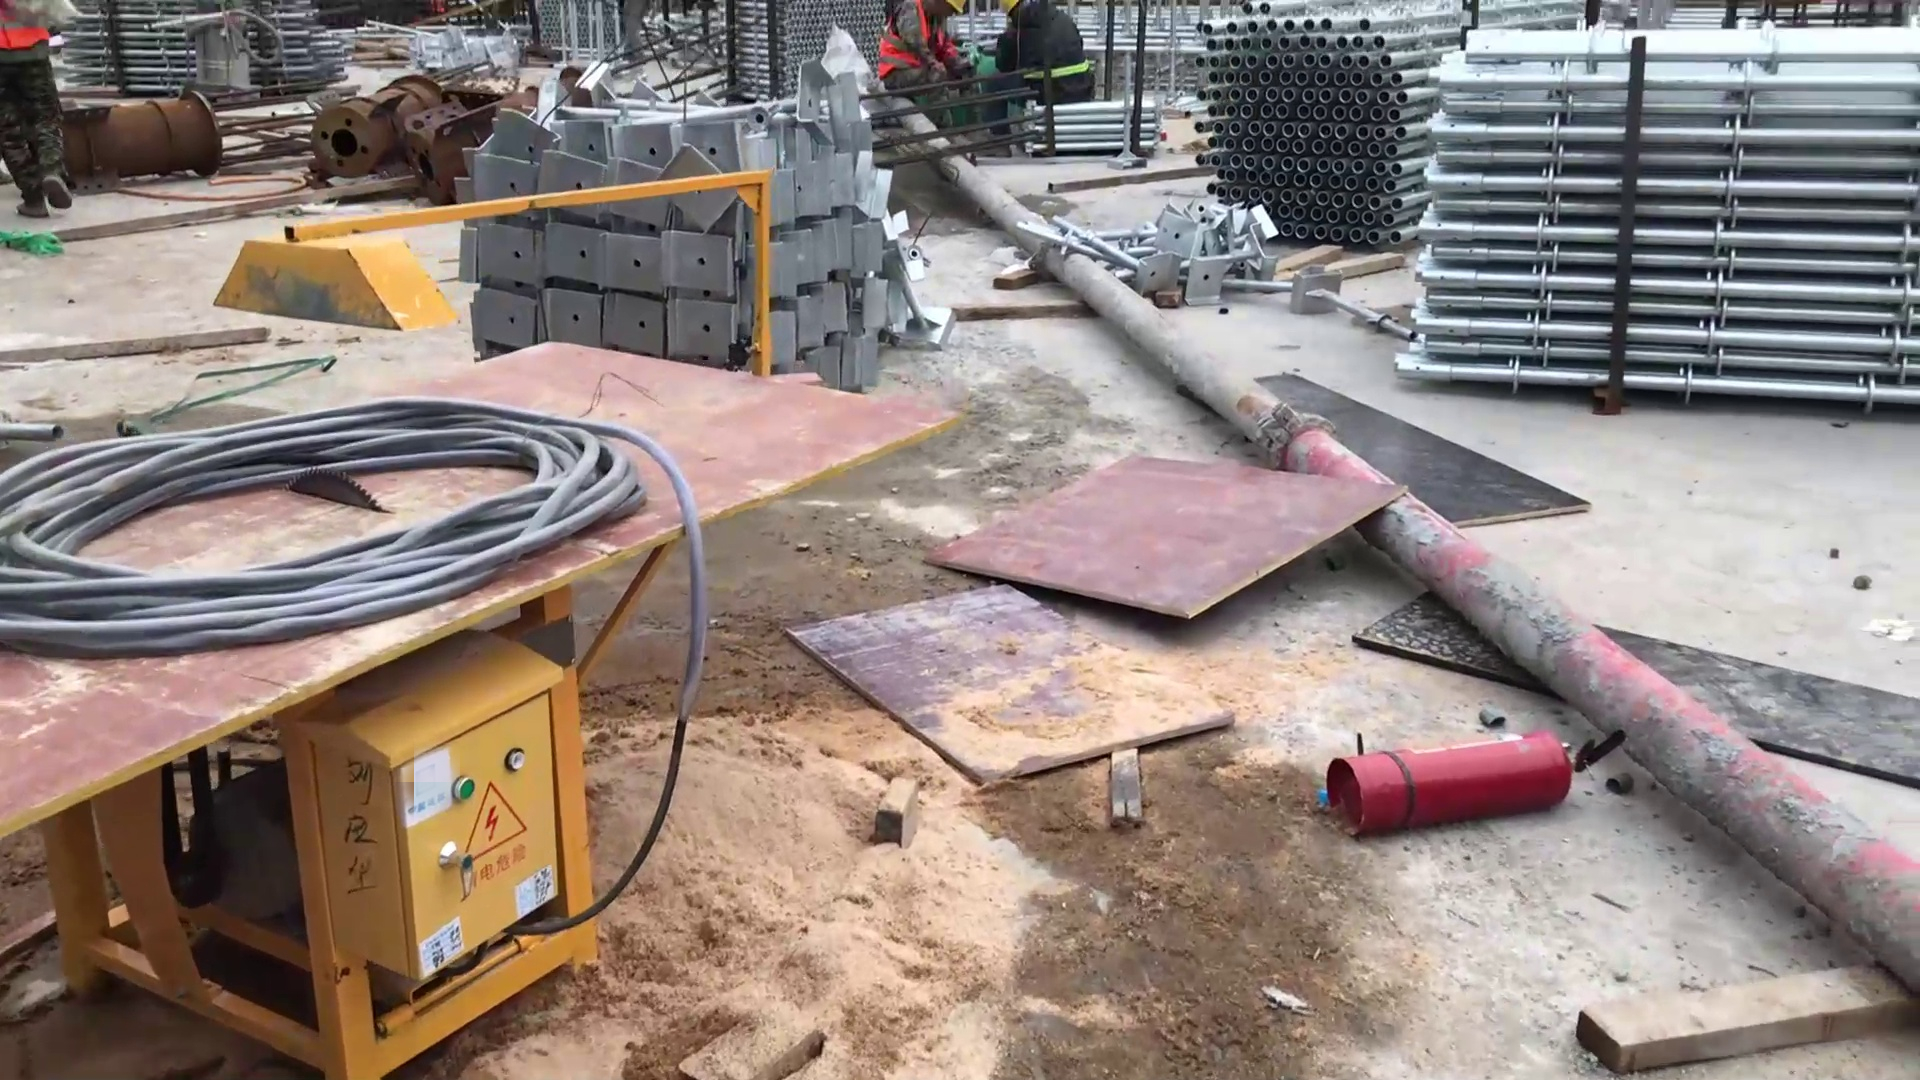board: (786, 567, 1248, 770), (918, 439, 1411, 613)
cutter: (1, 331, 991, 1074)
ebox: (282, 611, 603, 1020)
person: (1, 1, 92, 219), (866, 1, 978, 119), (986, 1, 1097, 107)
scaffold: (1389, 15, 1919, 441), (456, 93, 896, 357), (1194, 1, 1421, 272), (65, 1, 358, 102)
vest: (877, 11, 962, 85), (1, 1, 54, 49)
